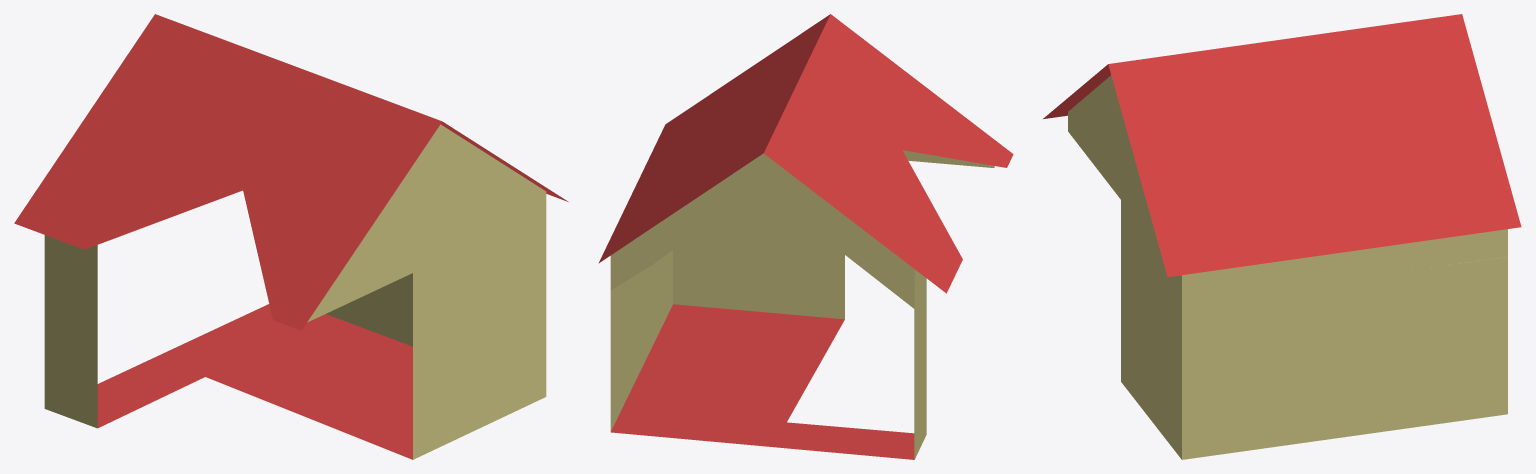
3 views of the same model, side by side, from view 1: azimuth 30°, elevation 25°; view 2: azimuth 150°, elevation 25°; view 3: azimuth 270°, elevation 25° (orthographic). The views are drawn at different scales.
Size of the model in its own units: 22.5 by 21.89 by 16.57.
